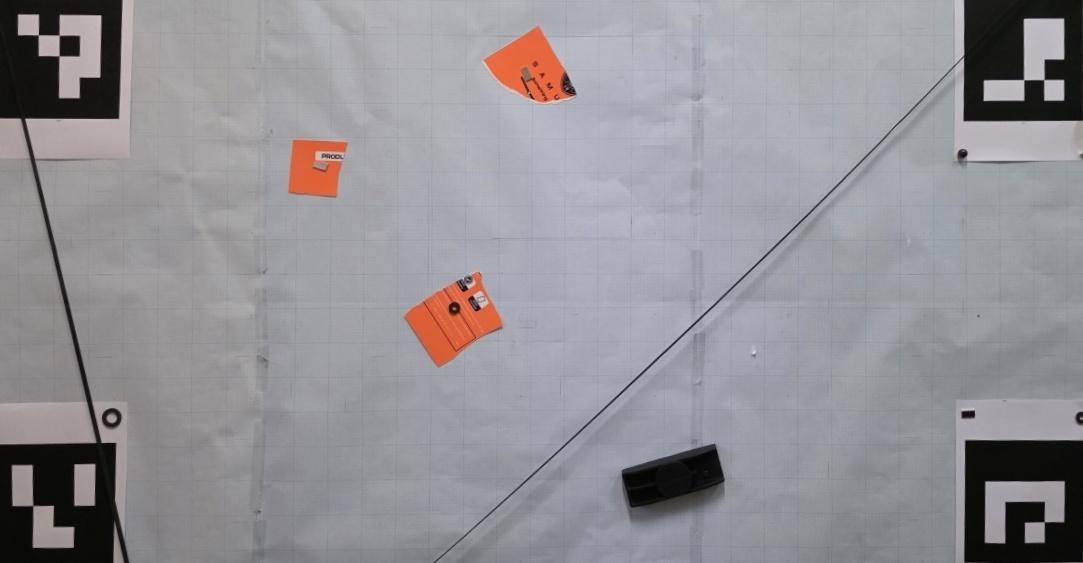obstacle: (403, 270, 504, 369), (481, 25, 576, 105), (621, 441, 726, 508), (287, 137, 346, 199)
